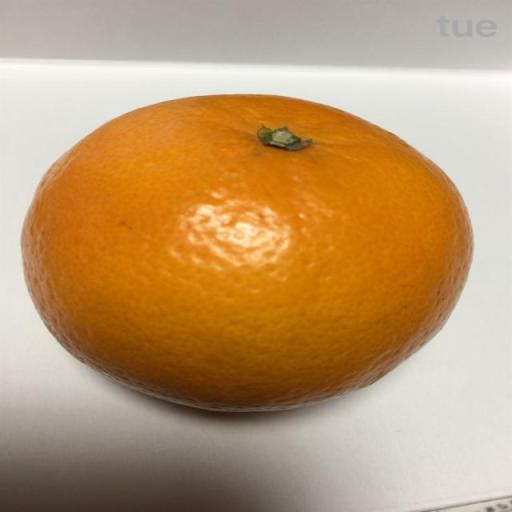fruit: (23, 96, 471, 410)
